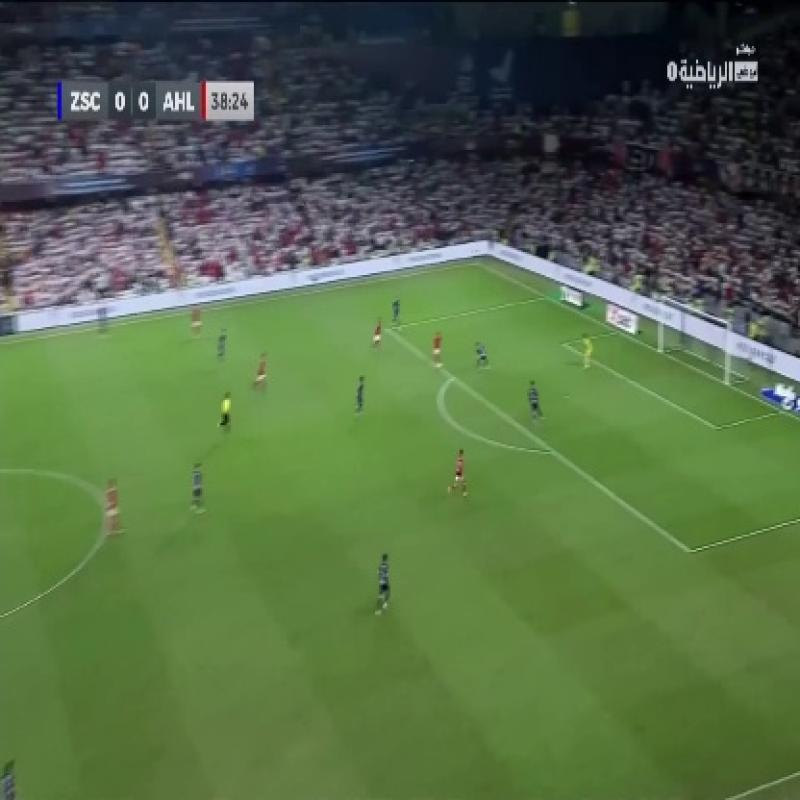1: (465, 258, 491, 270)
10: (442, 366, 461, 388)
11: (542, 438, 560, 462)
12: (679, 536, 700, 564)
2: (534, 286, 552, 306)
3: (604, 320, 625, 340)
4: (772, 400, 790, 419)
7: (556, 332, 572, 350)
8: (706, 415, 725, 436)
9: (378, 318, 396, 338)
c: (86, 490, 128, 532)
